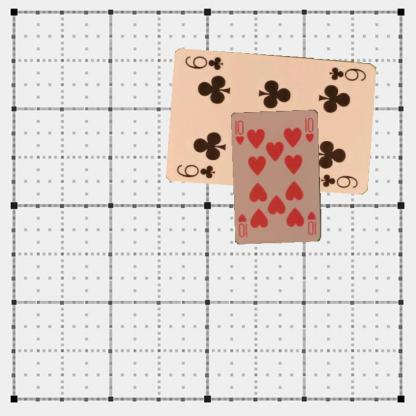10h: (305, 209, 318, 236), (233, 118, 245, 146)
6c: (174, 161, 217, 179), (327, 64, 367, 82)
